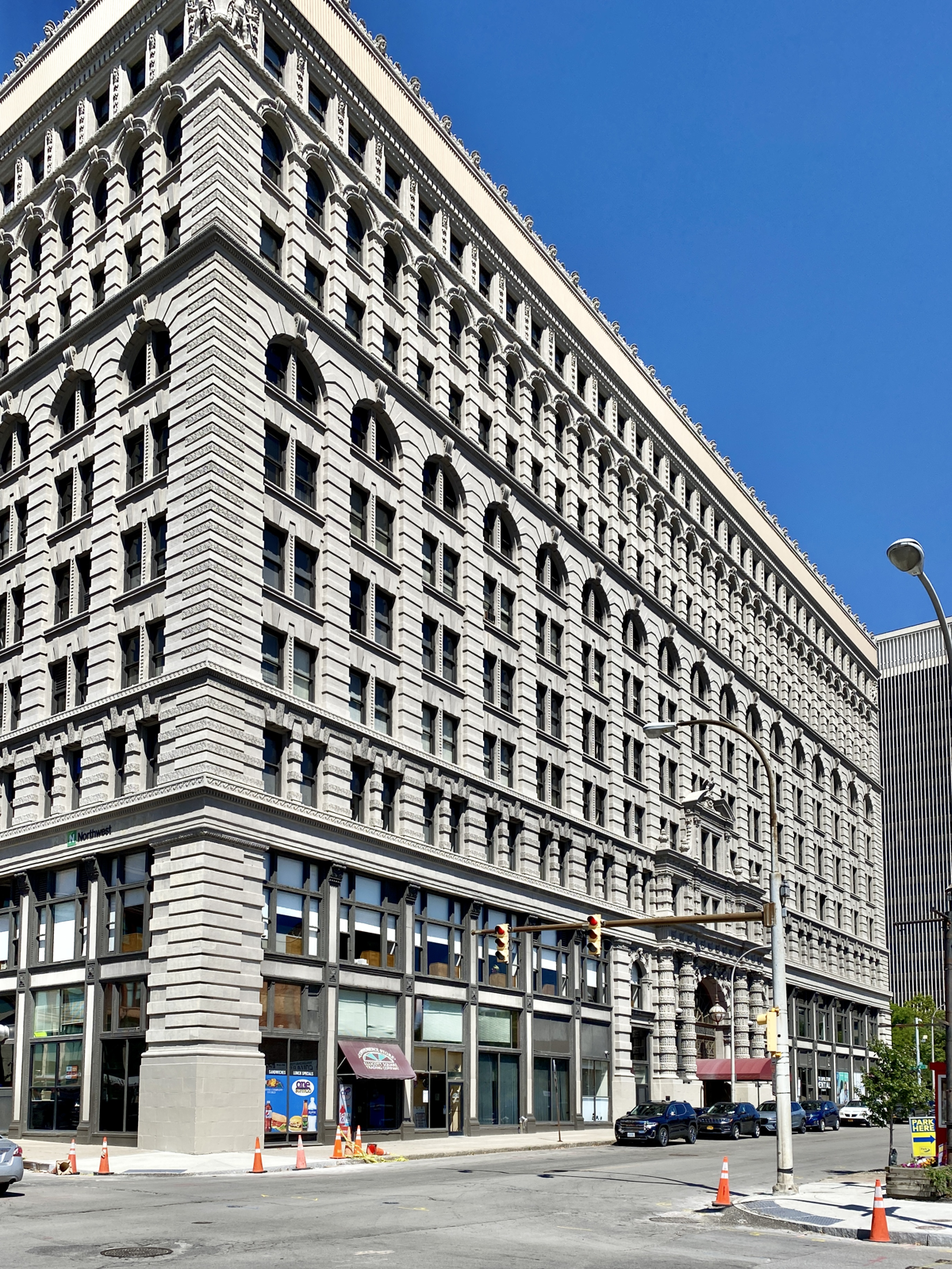fachada: (0, 4, 924, 1130)
poste: (623, 678, 829, 1194), (825, 527, 952, 718)
